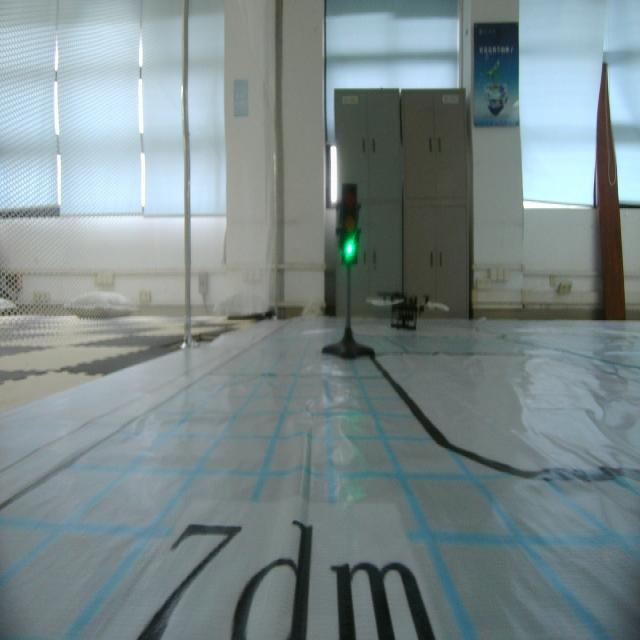green: (336, 181, 364, 267)
